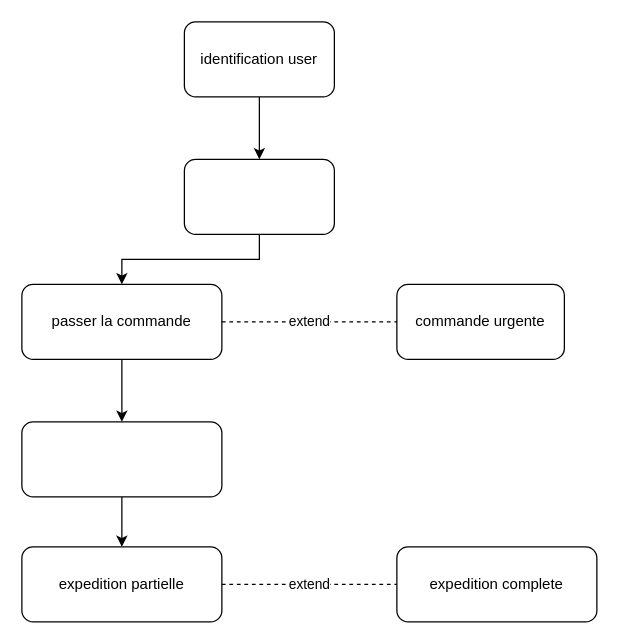
The diagram is 619 pixels wide and 644 high, and some of its shapes have lost their labels. The centre of each missing label's shape, as x and y in pixels:
expedition commande: point 121,459
gestion de la commande: point 258,196
